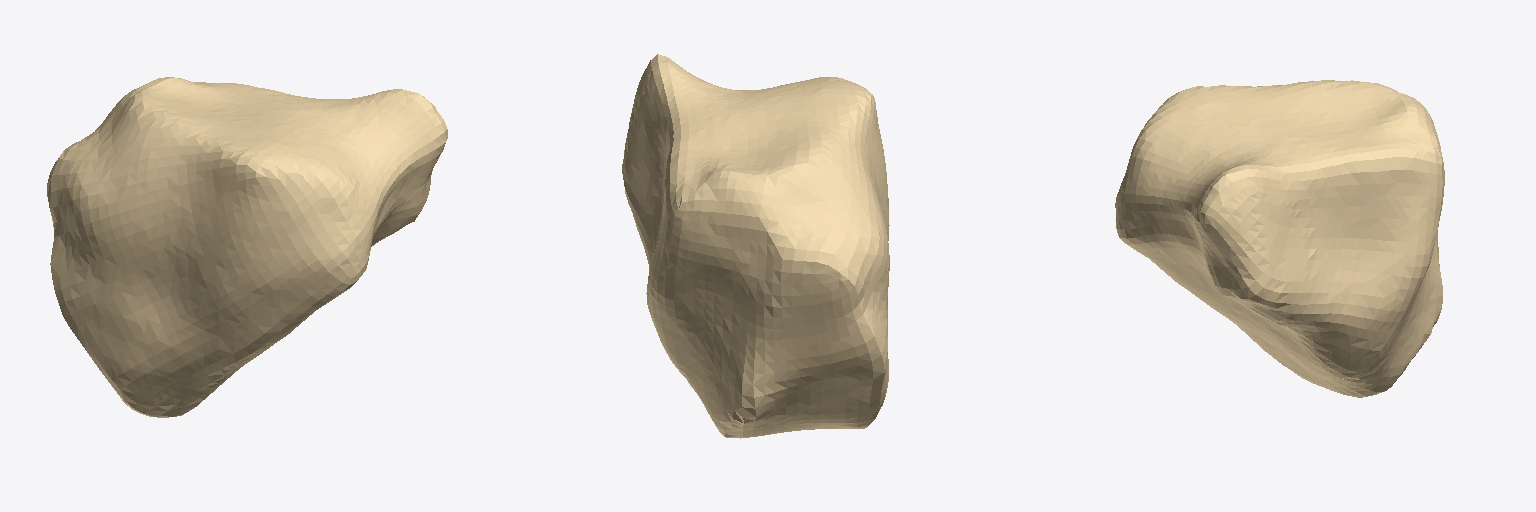
File: Cuboid.obj
3 views of the same model, side by side, from view 1: azimuth 30°, elevation 25°; view 2: azimuth 150°, elevation 25°; view 3: azimuth 270°, elevation 25° (orthographic).
Parts seen in each view (by area): view 1: Object_0Cuboid; view 2: Object_0Cuboid; view 3: Object_0Cuboid.
Boxes of the visible parts, x1=… form: Object_0Cuboid: x1=47, y1=77, x2=447, y2=417; Object_0Cuboid: x1=622, y1=54, x2=889, y2=438; Object_0Cuboid: x1=1115, y1=80, x2=1444, y2=397.
Bounding box in the file's own units: 35.81 × 32.32 × 32.44.